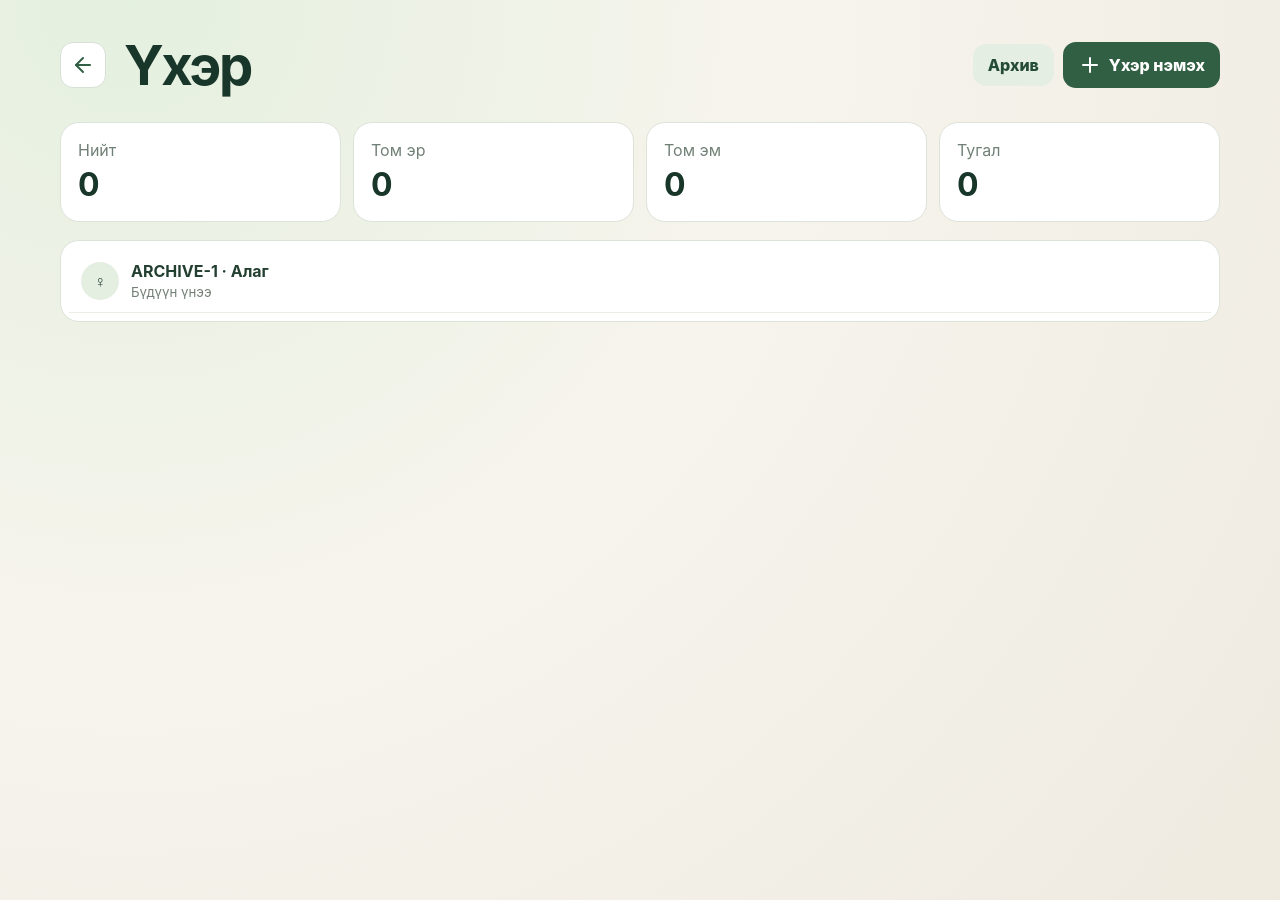
Test: animal archive profiles › renders the cattle main and layout profile images
Click the button "♀ ARCHIVE-1 · Алаг Бүдүүн үнээ" at [100, 280], box [69,249,1211,313]
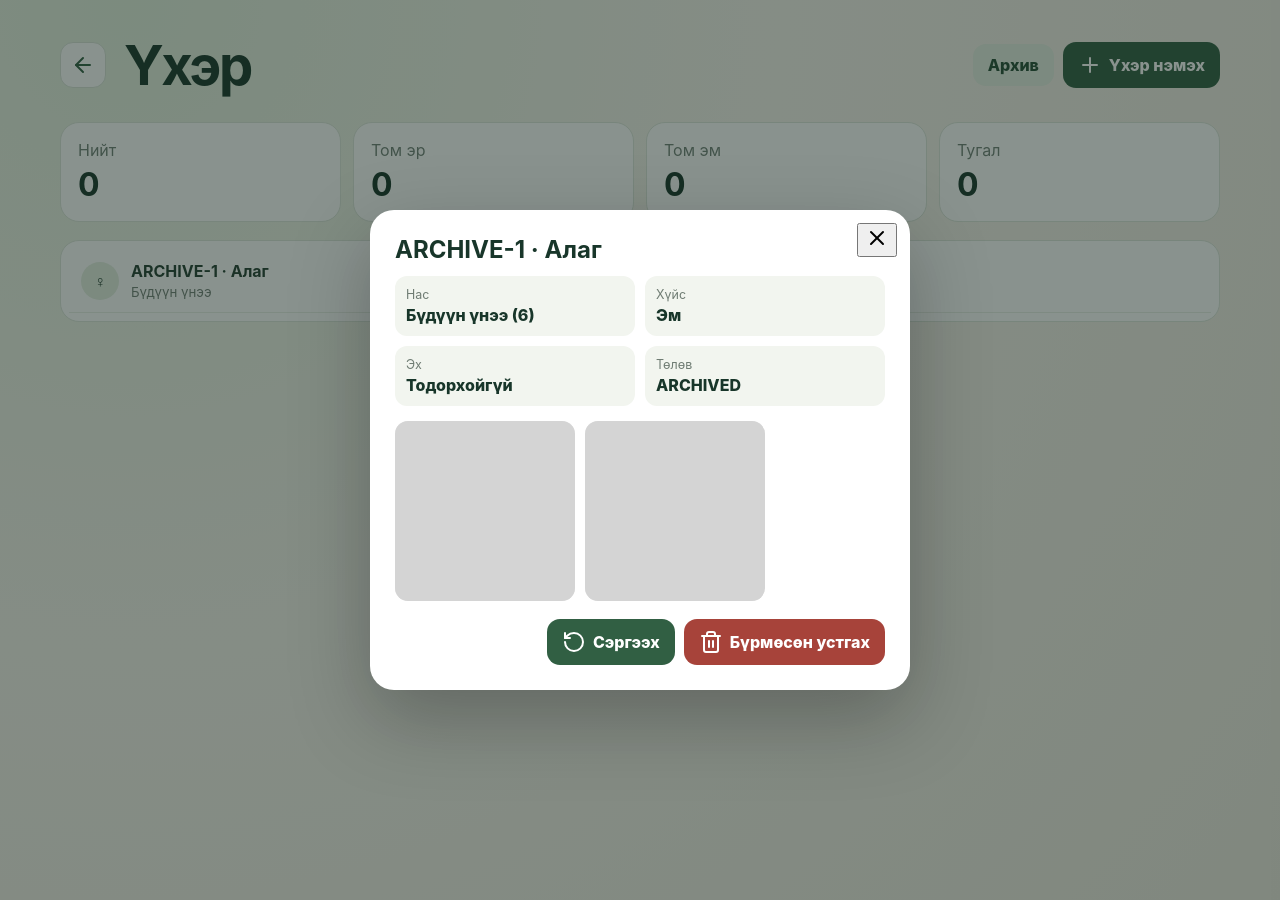
Now the button "Бүрмөсөн устгах" is shown, box [684,619,885,665]
